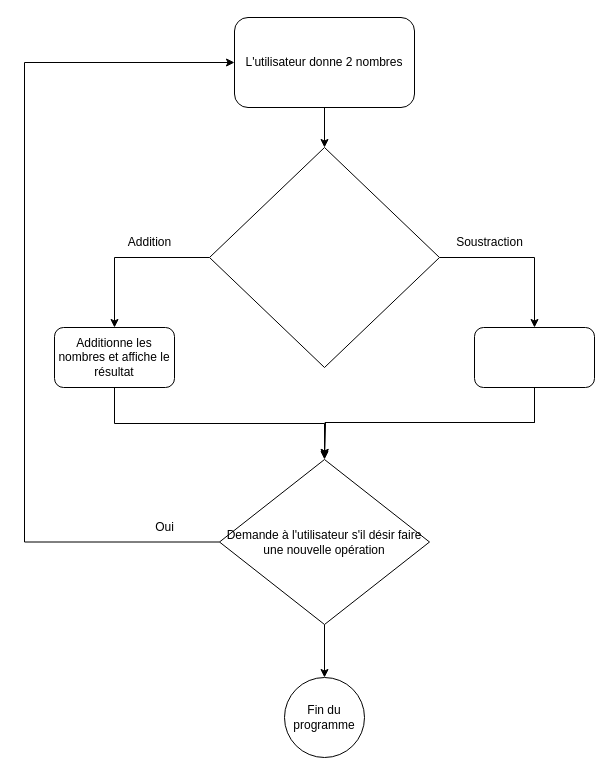
This 612x775 diagram has some shape labels left out. Here are the shapes that lost their labels. From the top down, the box of each, then its label:
(208, 146, 440, 368): L'utilisateur demande de faire sois une addition ou une soustraction
(474, 326, 594, 388): Soustrait les nombres et affiche le résultat
